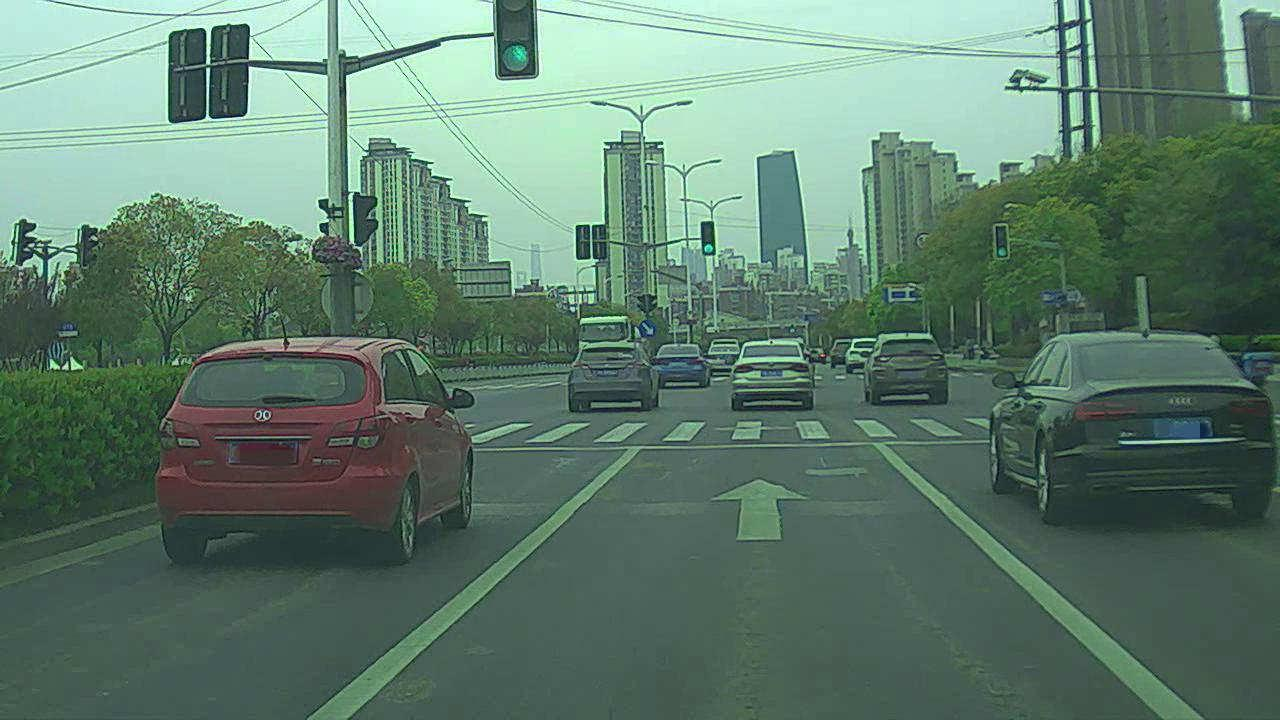traffic_light: (496, 2, 541, 77), (991, 225, 1011, 259), (700, 221, 717, 257)
